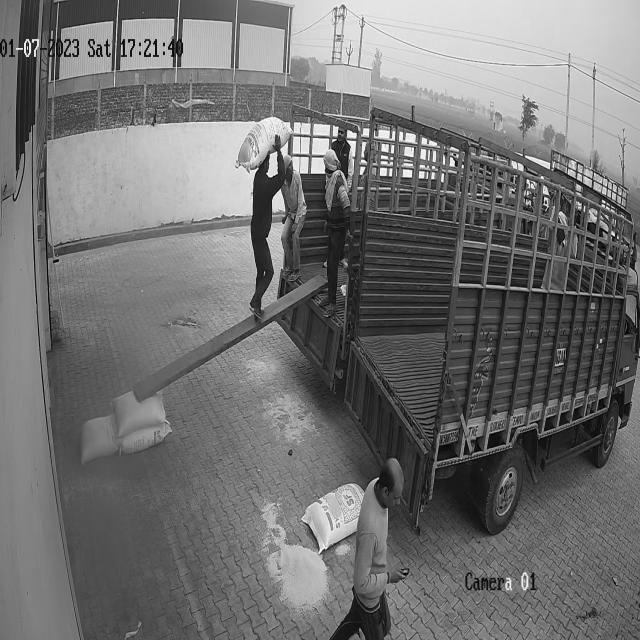sack: (300, 482, 365, 550), (236, 117, 292, 172), (110, 389, 165, 435), (80, 414, 118, 462), (119, 420, 170, 452)
